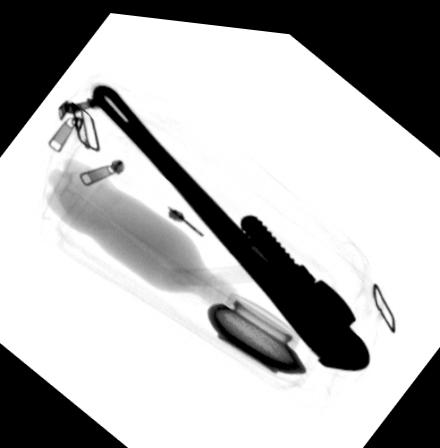Wrench: (89, 79, 370, 363)
